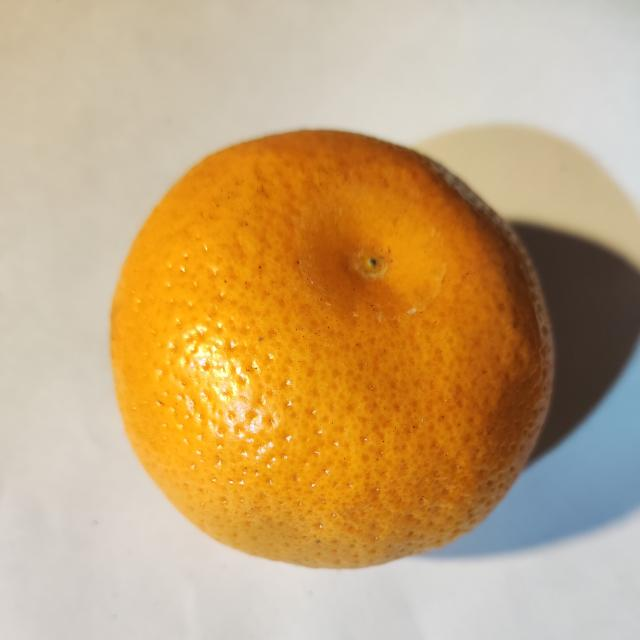orange: (112, 132, 552, 567)
